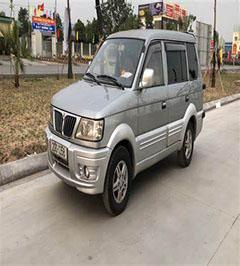car: (36, 13, 218, 223)
